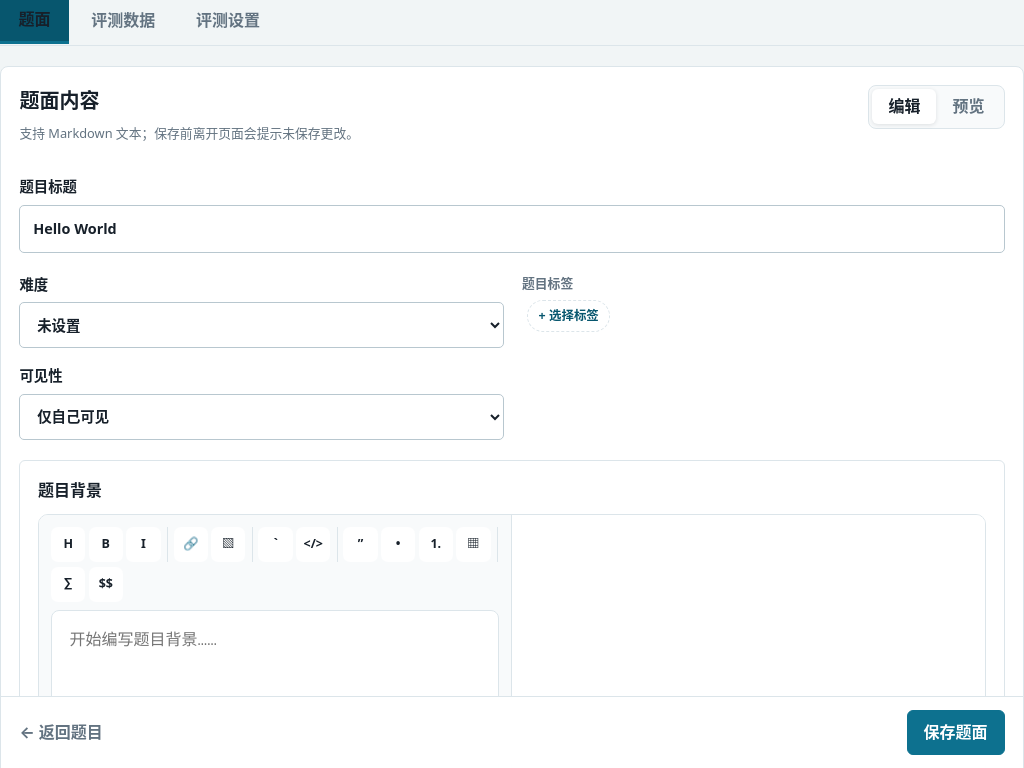
ProblemEditor judge-data contract UI › saves judge defaults through the typed config endpoint
Click the button "评测设置": [228, 22] box [178, 0, 278, 45]
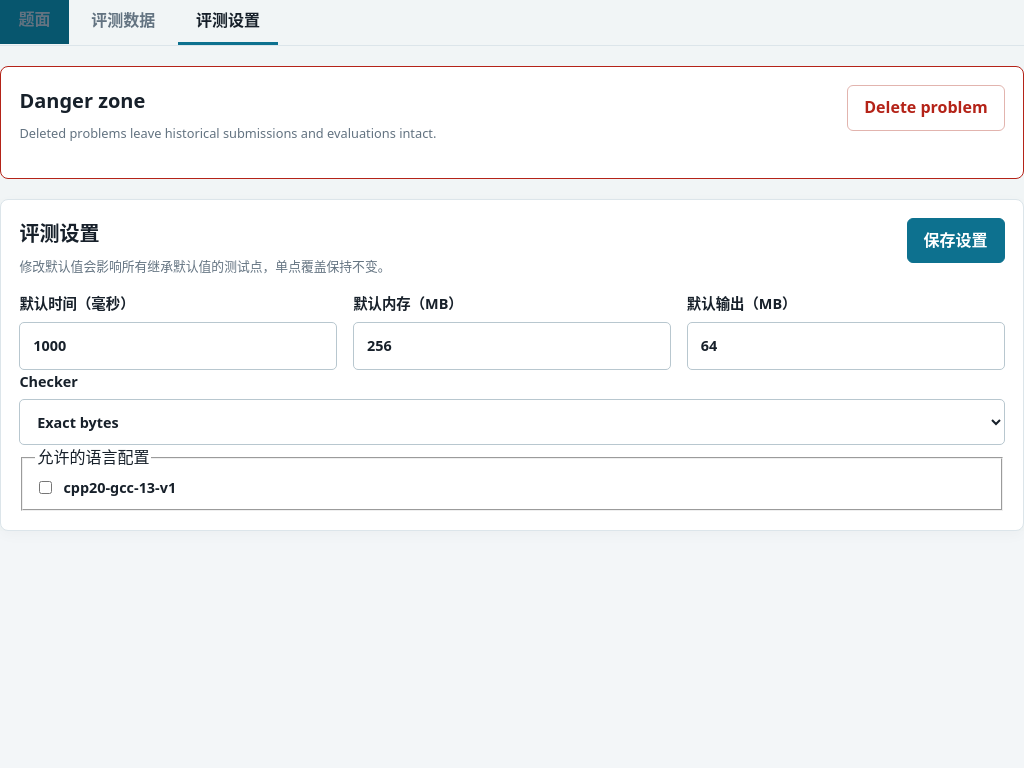
Replace the text in the number field labelled "默认时间（毫秒）" with "2500": [178, 346] box [19, 322, 337, 370]
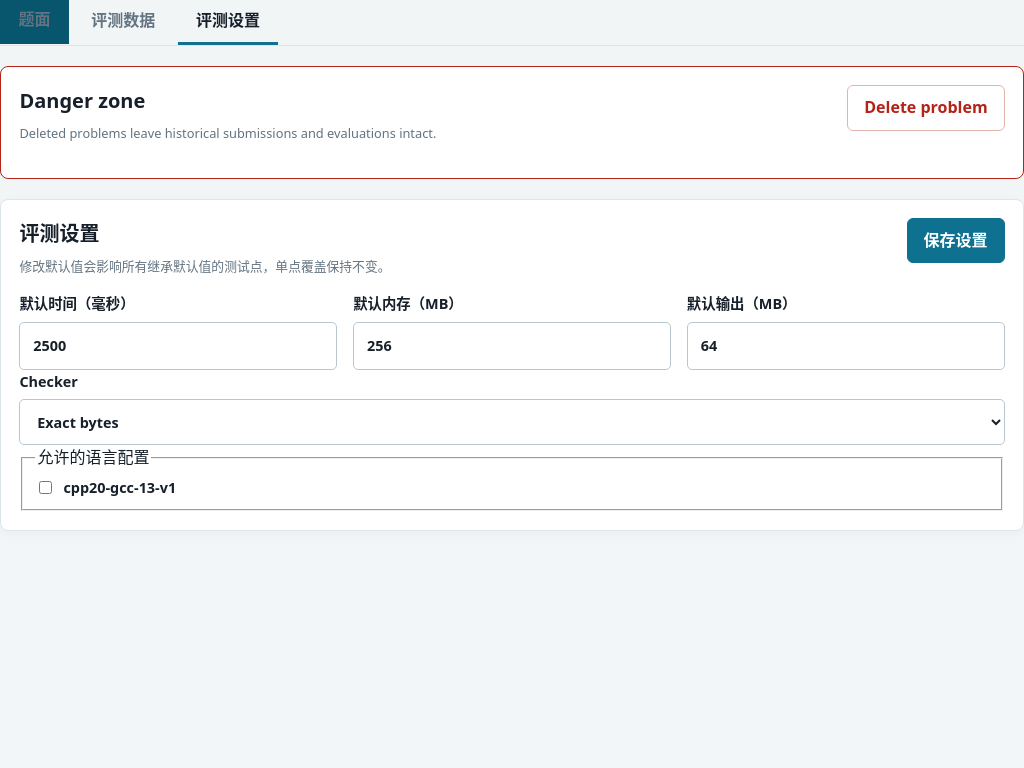
Click the button "保存设置": [956, 241] box [907, 218, 1005, 263]
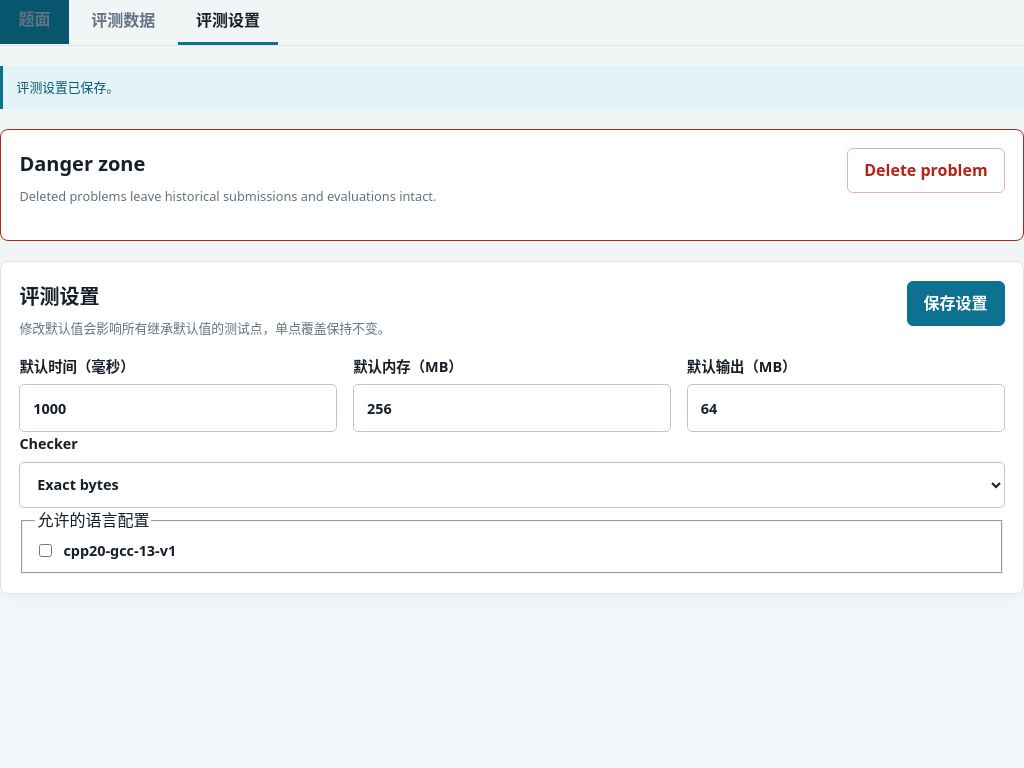
Expected: the message shows "评测设置已保存", [17, 78, 119, 96]
